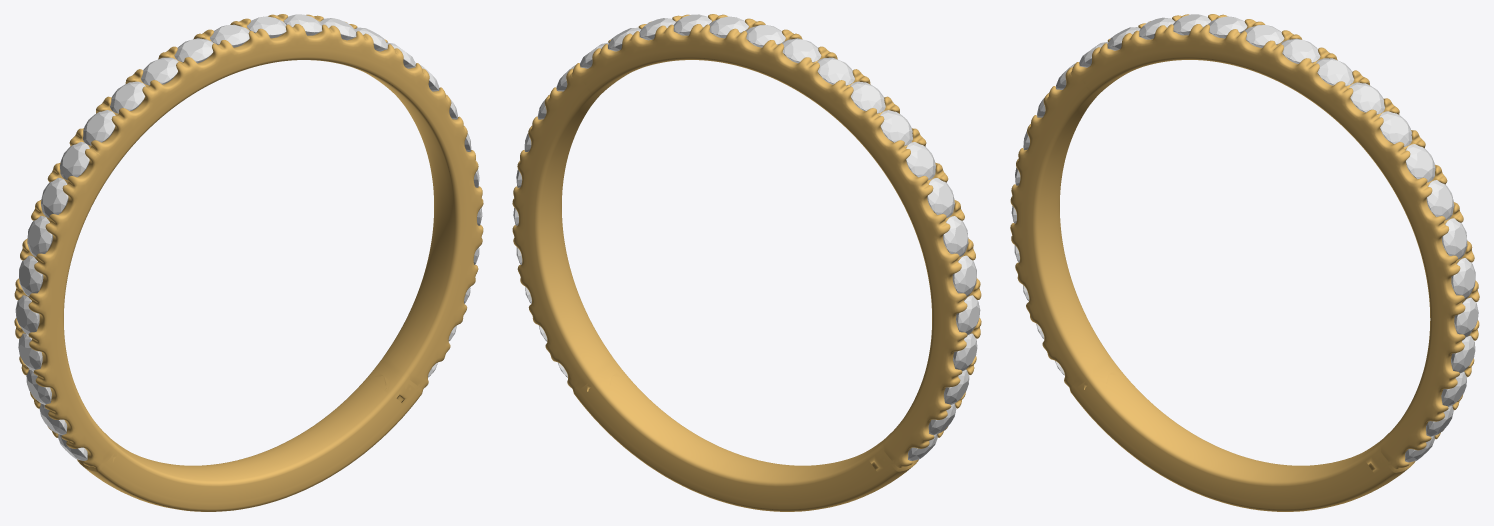
3 renders of one model, left to right at view 1: azimuth 30°, elevation 25°; view 2: azimuth 150°, elevation 25°; view 3: azimuth 330°, elevation 25°, orthographic.
Parts seen in each view (by area): view 1: Shank_part_1.001, Small_Brilliant.012, Small_Brilliant.046; view 2: Shank_part_1.001, Small_Brilliant.012, Small_Brilliant.046; view 3: Shank_part_1.001, Small_Brilliant.012, Small_Brilliant.046.
Boxes of the visible parts, x1,y1,x2,y2 form: Shank_part_1.001: (14, 14, 483, 511); Small_Brilliant.012: (83, 14, 482, 377); Small_Brilliant.046: (15, 142, 89, 460); Shank_part_1.001: (512, 14, 981, 511); Small_Brilliant.012: (513, 14, 912, 377); Small_Brilliant.046: (906, 142, 980, 460); Shank_part_1.001: (1010, 14, 1479, 511); Small_Brilliant.012: (1079, 14, 1478, 462); Small_Brilliant.046: (1011, 63, 1075, 375).
Size of the model in its own units: 15.76 by 15.77 by 1.5.
